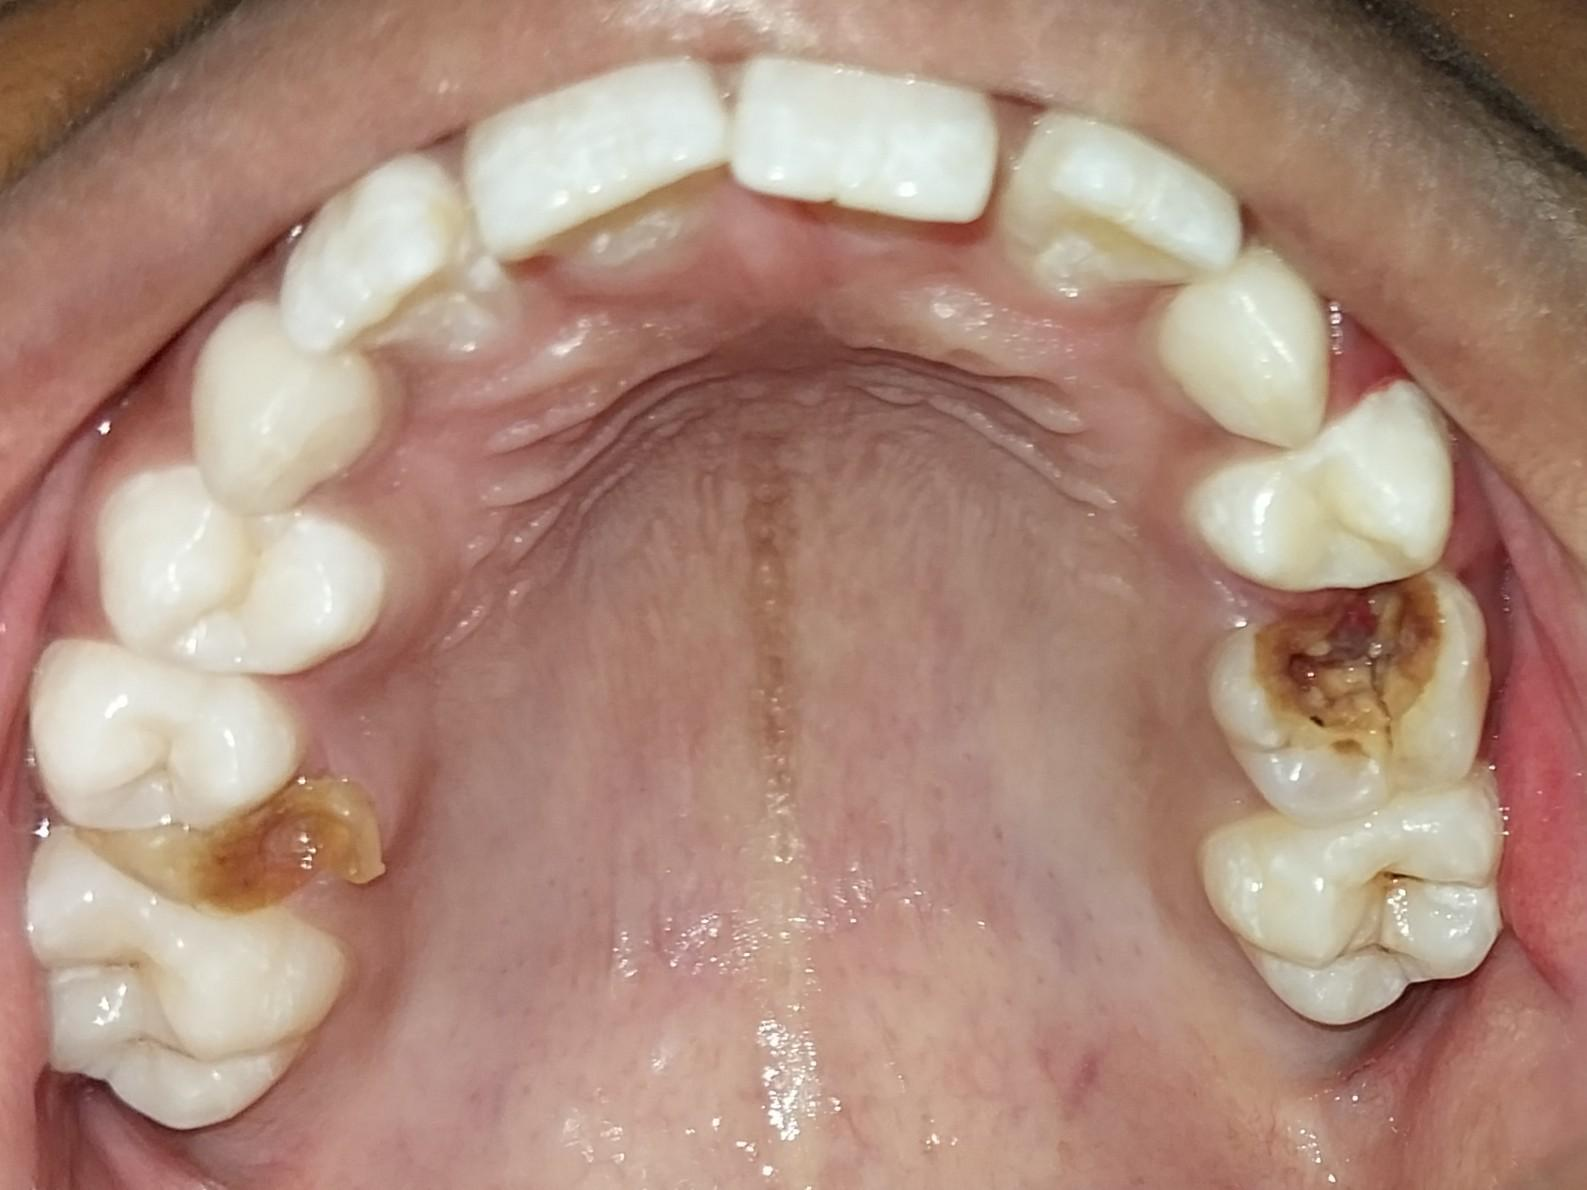d: (1211, 585, 1489, 816), (109, 826, 379, 912)
